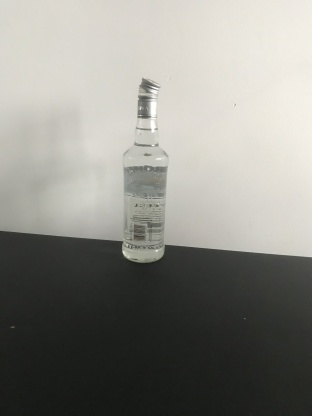nakretka: (136, 75, 161, 119)
